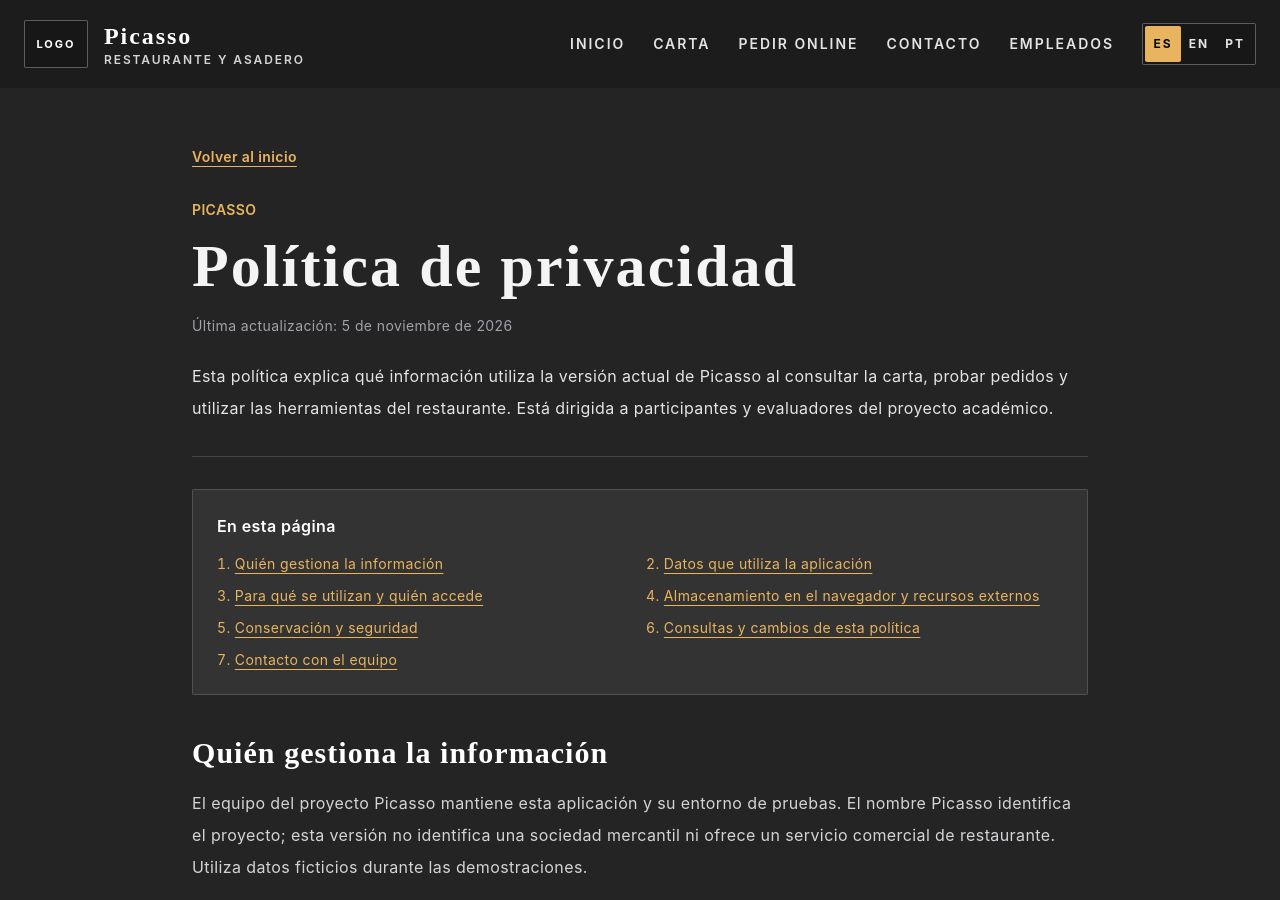
Test: switches the entire legal page and footer labels without changing the route
Expected: the heading "Política de privacidad" is shown, x1=192 y1=233 x2=798 y2=299
Click the button with aria-label "English" at (1199, 44), box x1=1181 y1=26 x2=1217 y2=62
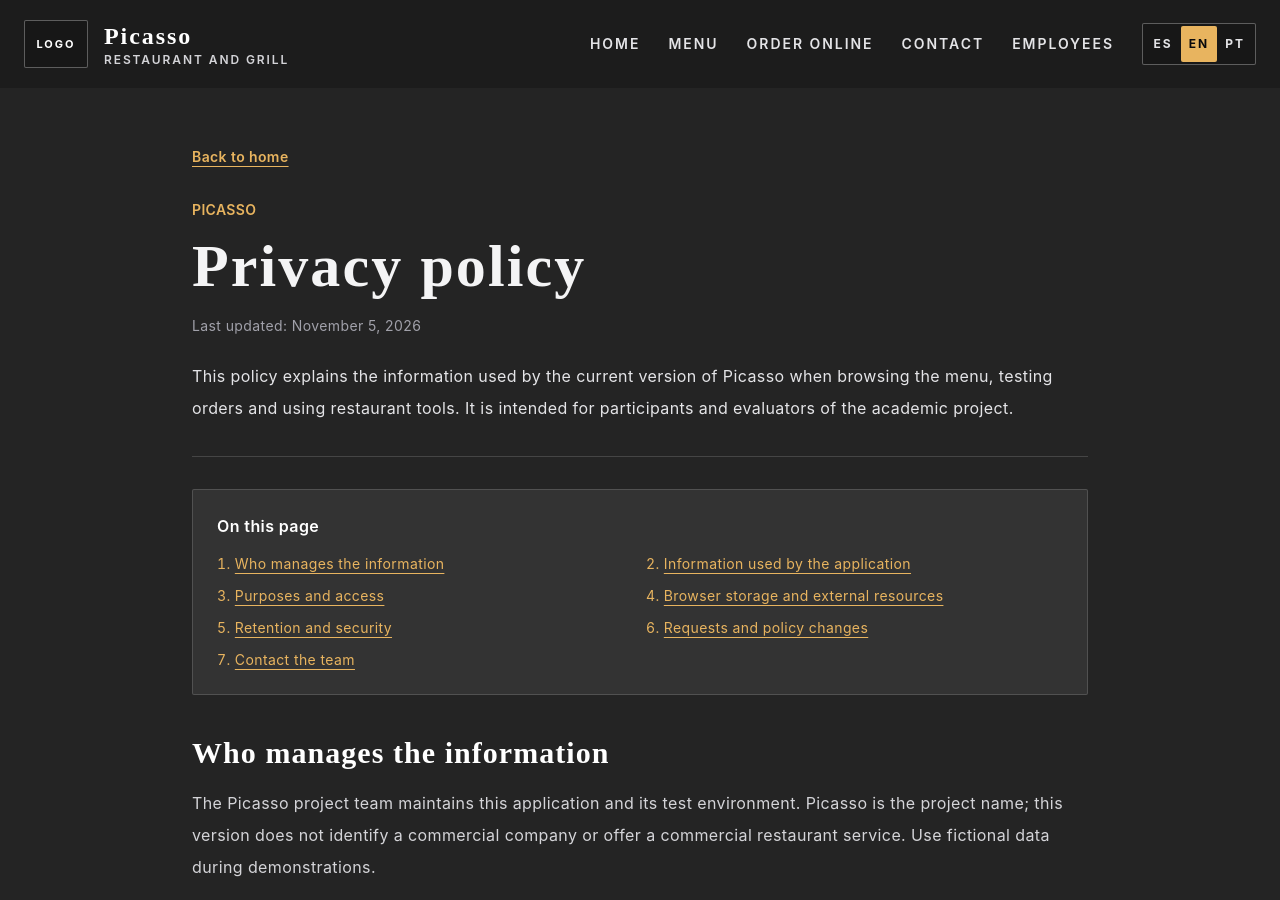
Now the heading "Privacy policy" is shown, box x1=192 y1=233 x2=586 y2=299
Click the button with aria-label "Português" at (1235, 44), box x1=1217 y1=26 x2=1253 y2=62
(page scrolled)
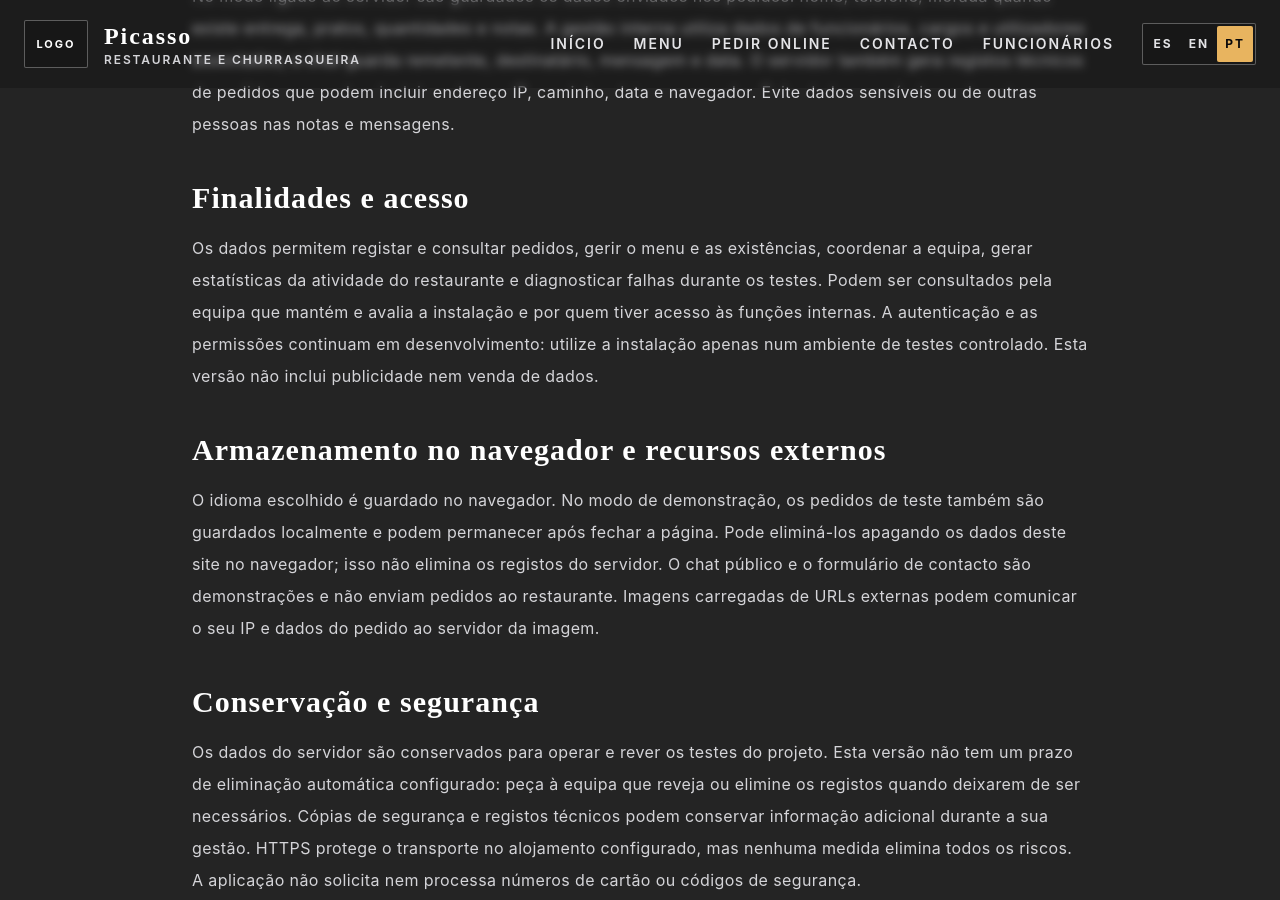
Now the heading "Armazenamento no navegador e recursos externos" is shown, box x1=192 y1=433 x2=887 y2=466
